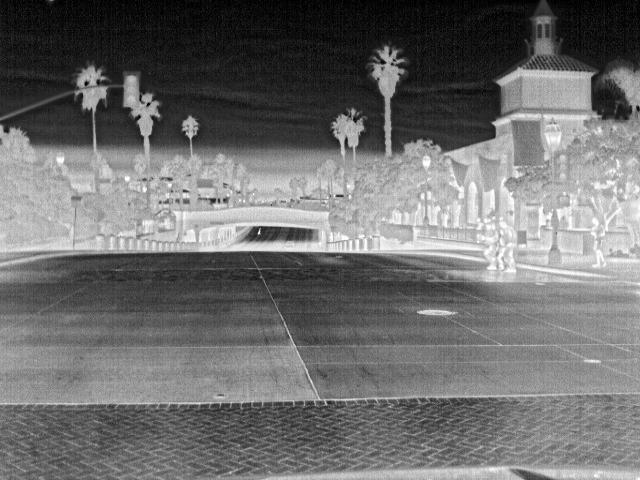car: (282, 237, 296, 248)
person: (495, 220, 517, 270), (588, 215, 608, 267), (482, 218, 497, 268)
